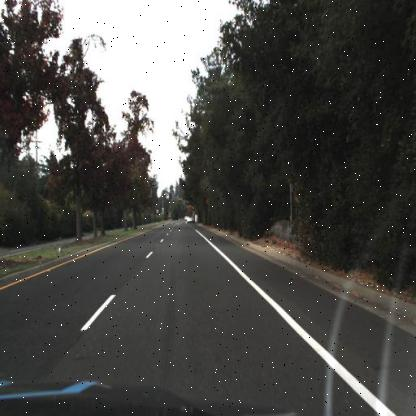car: (187, 216, 195, 224), (185, 216, 188, 221)
trafficLight-Yellow: (179, 196, 181, 202), (192, 206, 194, 210)
